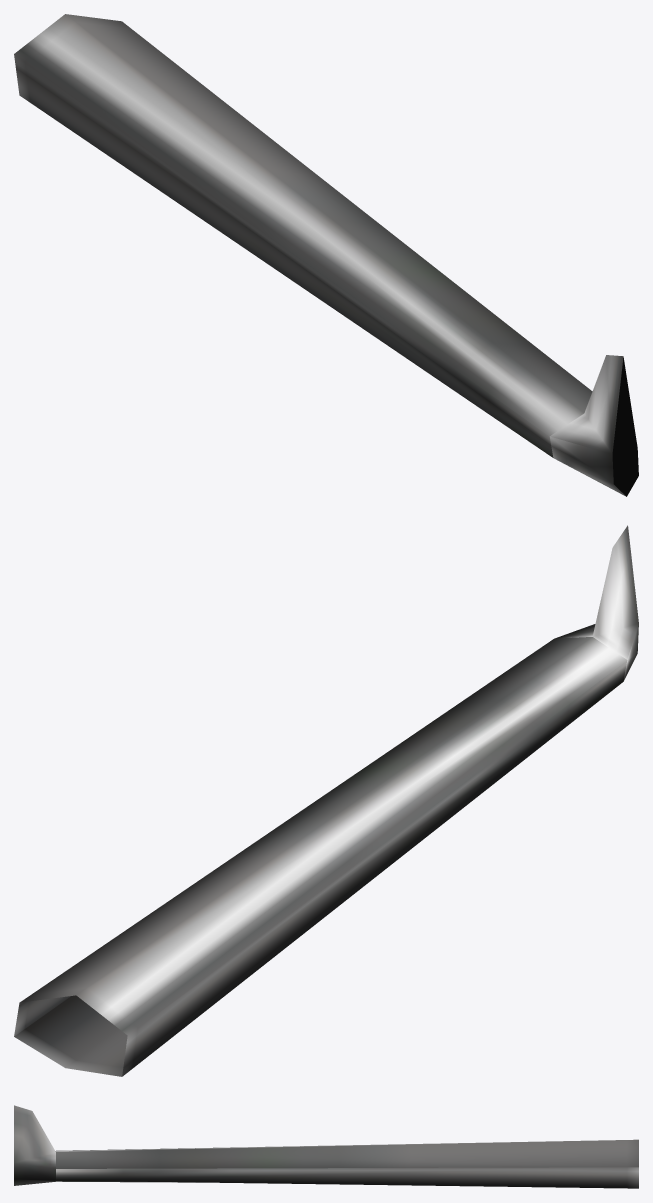
The model's file is exh_lr_slv1.glb.
The picture shows the model from 3 angles, top to bottom: view 1: azimuth 30°, elevation 25°; view 2: azimuth 150°, elevation 25°; view 3: azimuth 270°, elevation 25°; orthographic projection. The views are drawn at different scales.
Parts seen in each view (by area): view 1: exh_lr_slv1; view 2: exh_lr_slv1; view 3: exh_lr_slv1.
Boxes of the visible parts, bbox=[...] form: exh_lr_slv1: bbox=[14, 14, 638, 496]; exh_lr_slv1: bbox=[14, 525, 638, 1076]; exh_lr_slv1: bbox=[14, 1105, 638, 1188].
Bounding box in the file's own units: 0.1531 × 0.1826 × 1.3.
2 materials, 1 textured.
